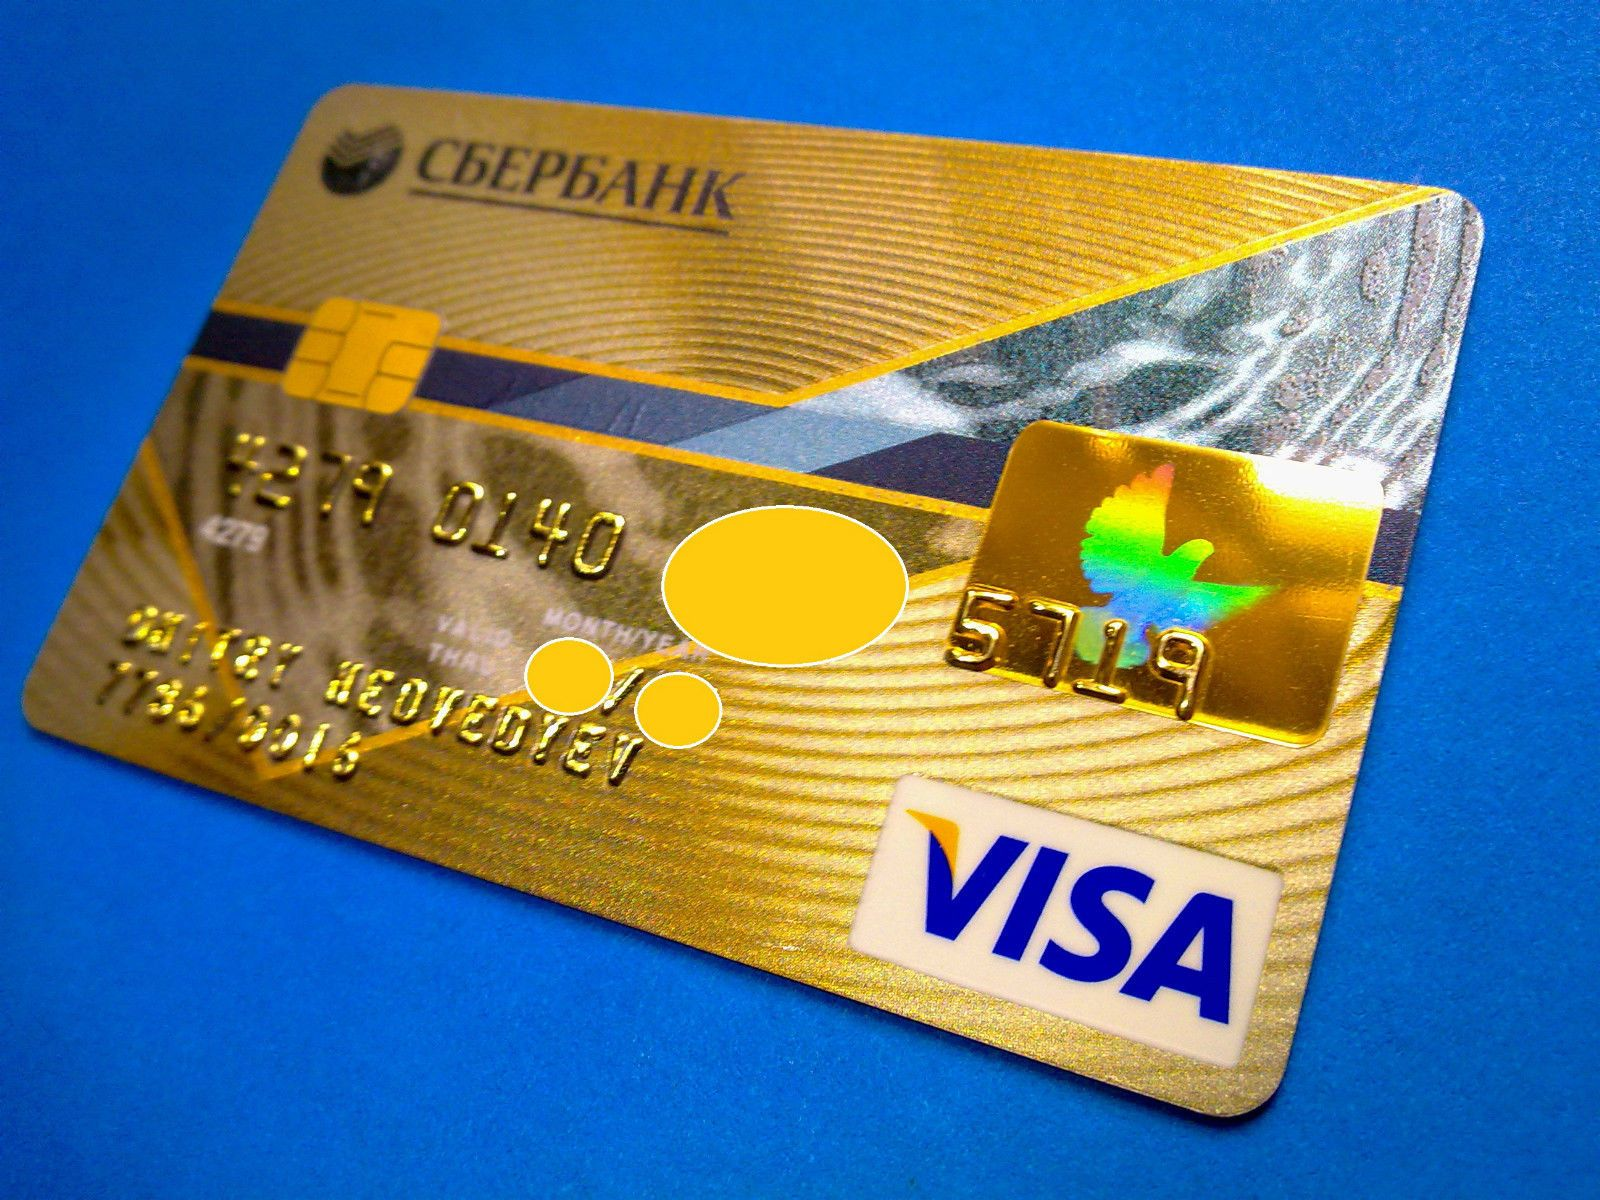card: (21, 79, 1488, 1127)
